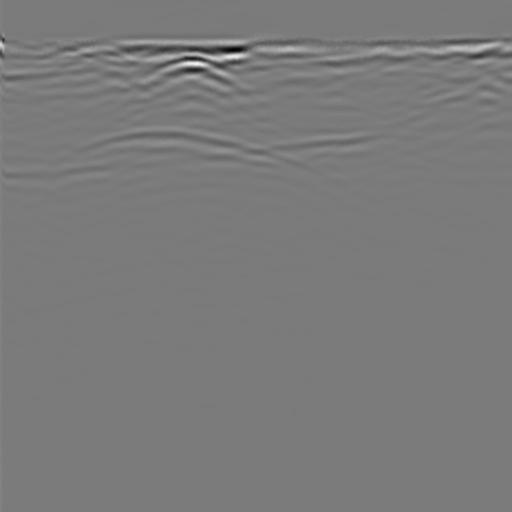hyperbola: (23, 115, 306, 221)
